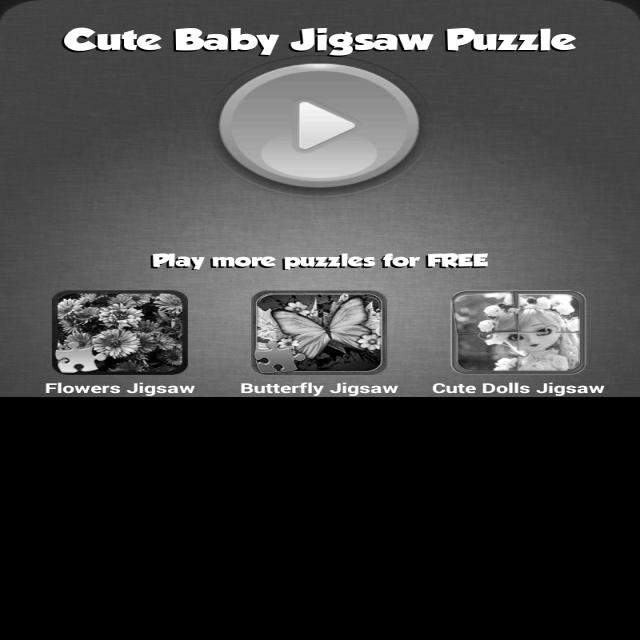ImageView: (227, 64, 423, 178), (40, 287, 190, 377), (447, 291, 587, 376), (249, 291, 386, 373)
TextView: (59, 24, 584, 54), (131, 250, 518, 270), (36, 378, 205, 397), (433, 381, 609, 399), (242, 378, 402, 396)
